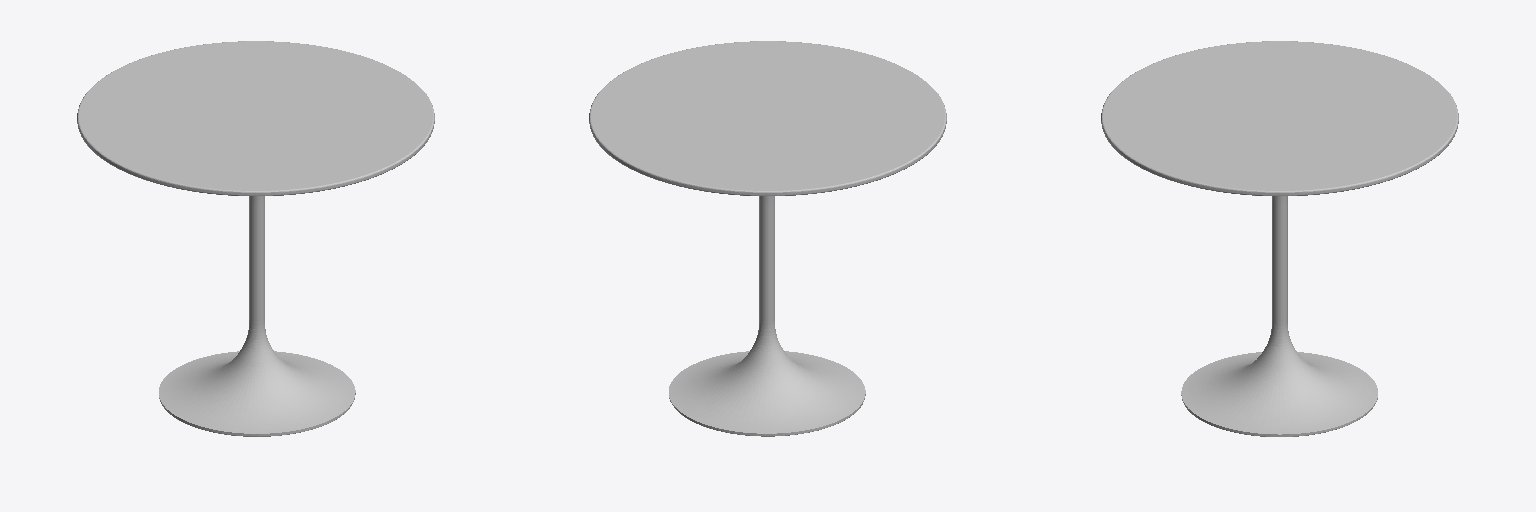
Rendered from table1.obj.
3 views of the same model, side by side, from view 1: azimuth 30°, elevation 25°; view 2: azimuth 150°, elevation 25°; view 3: azimuth 270°, elevation 25° (orthographic).
Parts seen in each view (by area): view 1: Cylinder004, Line016; view 2: Cylinder004, Line016; view 3: Cylinder004, Line016.
Part boxes in pixels (bbox=[...]): Cylinder004: bbox=[77, 41, 434, 195]; Line016: bbox=[159, 196, 355, 434]; Cylinder004: bbox=[589, 41, 946, 195]; Line016: bbox=[669, 196, 865, 434]; Cylinder004: bbox=[1101, 41, 1458, 195]; Line016: bbox=[1181, 196, 1377, 435].
Bounding box in the file's own units: 90 × 77.7 × 90.